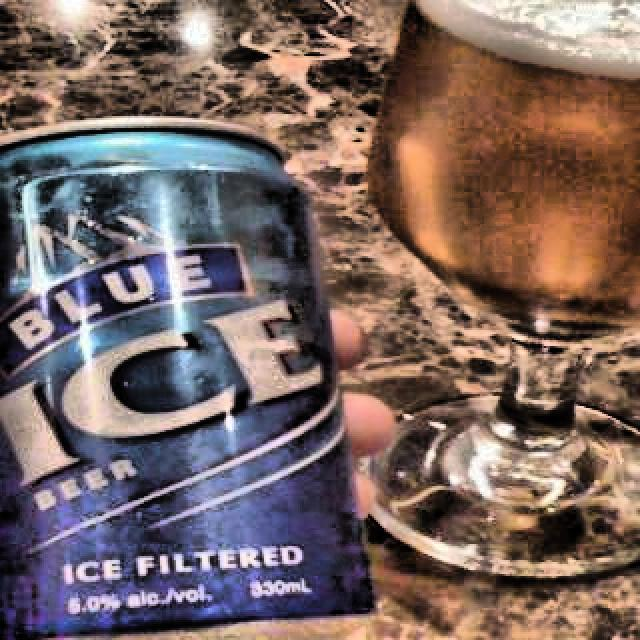glass: (364, 0, 640, 581)
metal: (0, 112, 378, 640)
